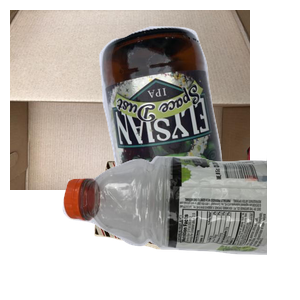cardboard: (10, 10, 250, 190)
glass: (97, 24, 300, 204)
plastic: (60, 152, 300, 300)
trash: (92, 158, 277, 300)
